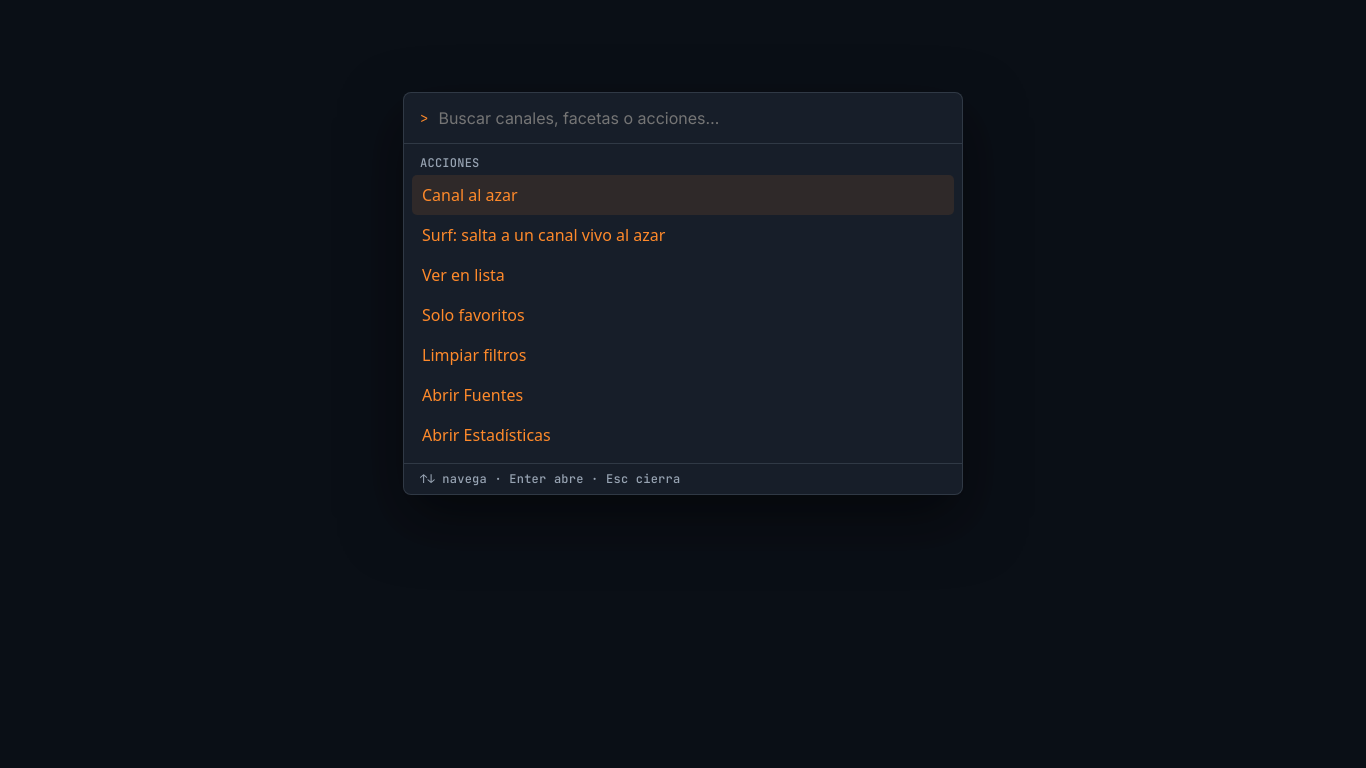
Test: Paleta — (b) filtrado difuso agrupado › teclear filtra las acciones: "azar" encuentra "Canal al azar" pero no "Limpiar filtros"
Type "azar" into the dropdown at coordinates (691, 118), box [436,105,946,131]
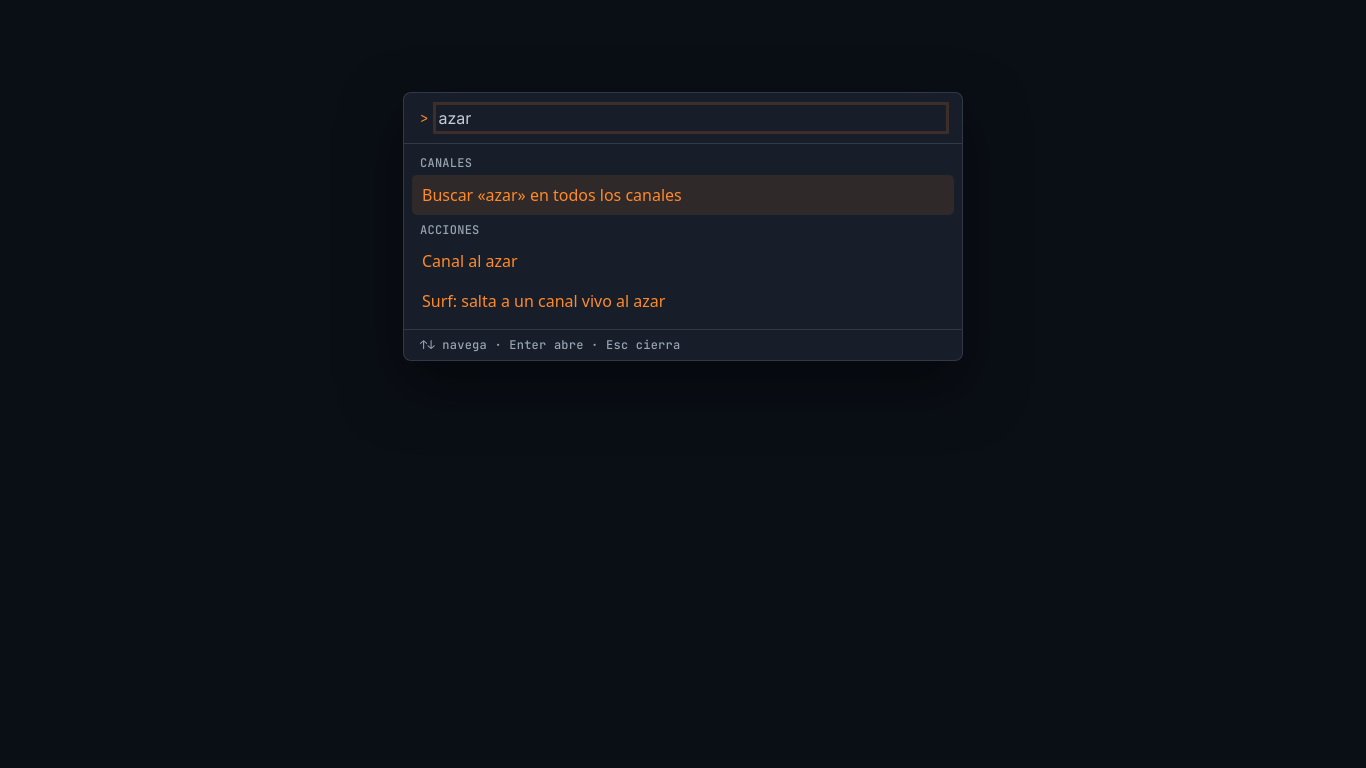
expect the option "Canal al azar" is shown: met, box [422,250,518,272]
expect the option "Limpiar filtros" is gone: met
